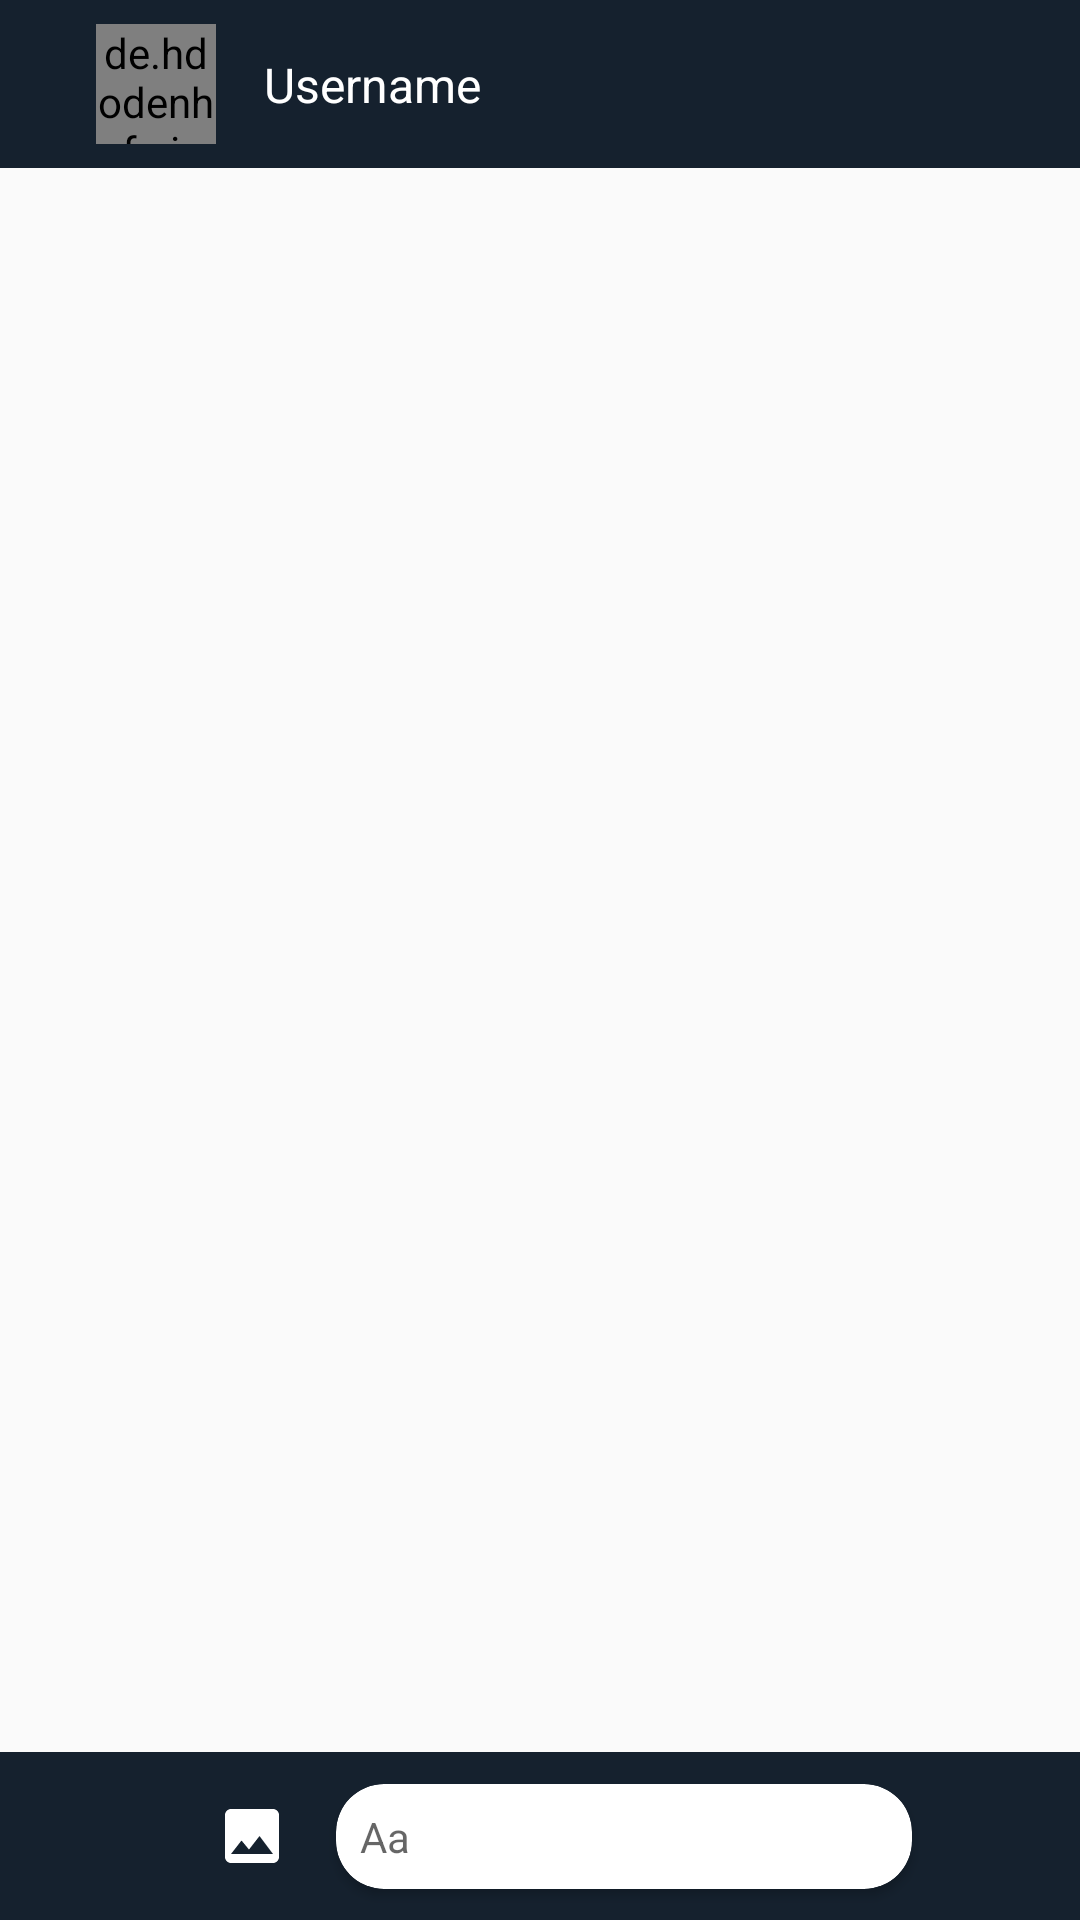

Icon click points for this 1080×1920 phone screenshot, format point (x, y):
gallery: point (252, 1836)
